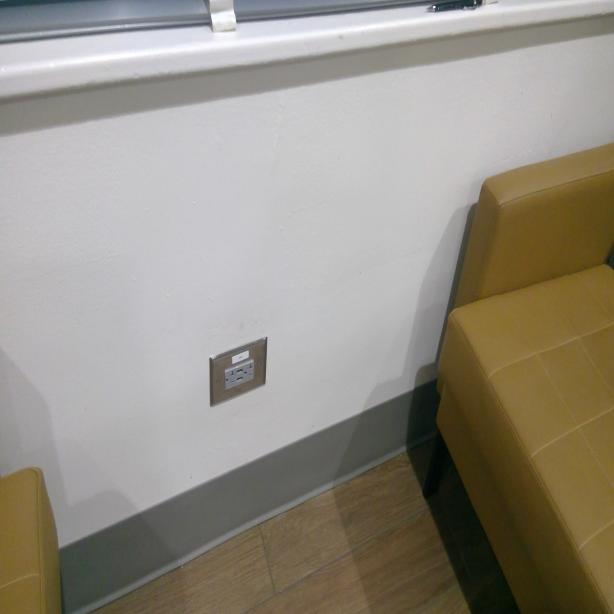typeb: (224, 366, 236, 393), (244, 363, 254, 382)
